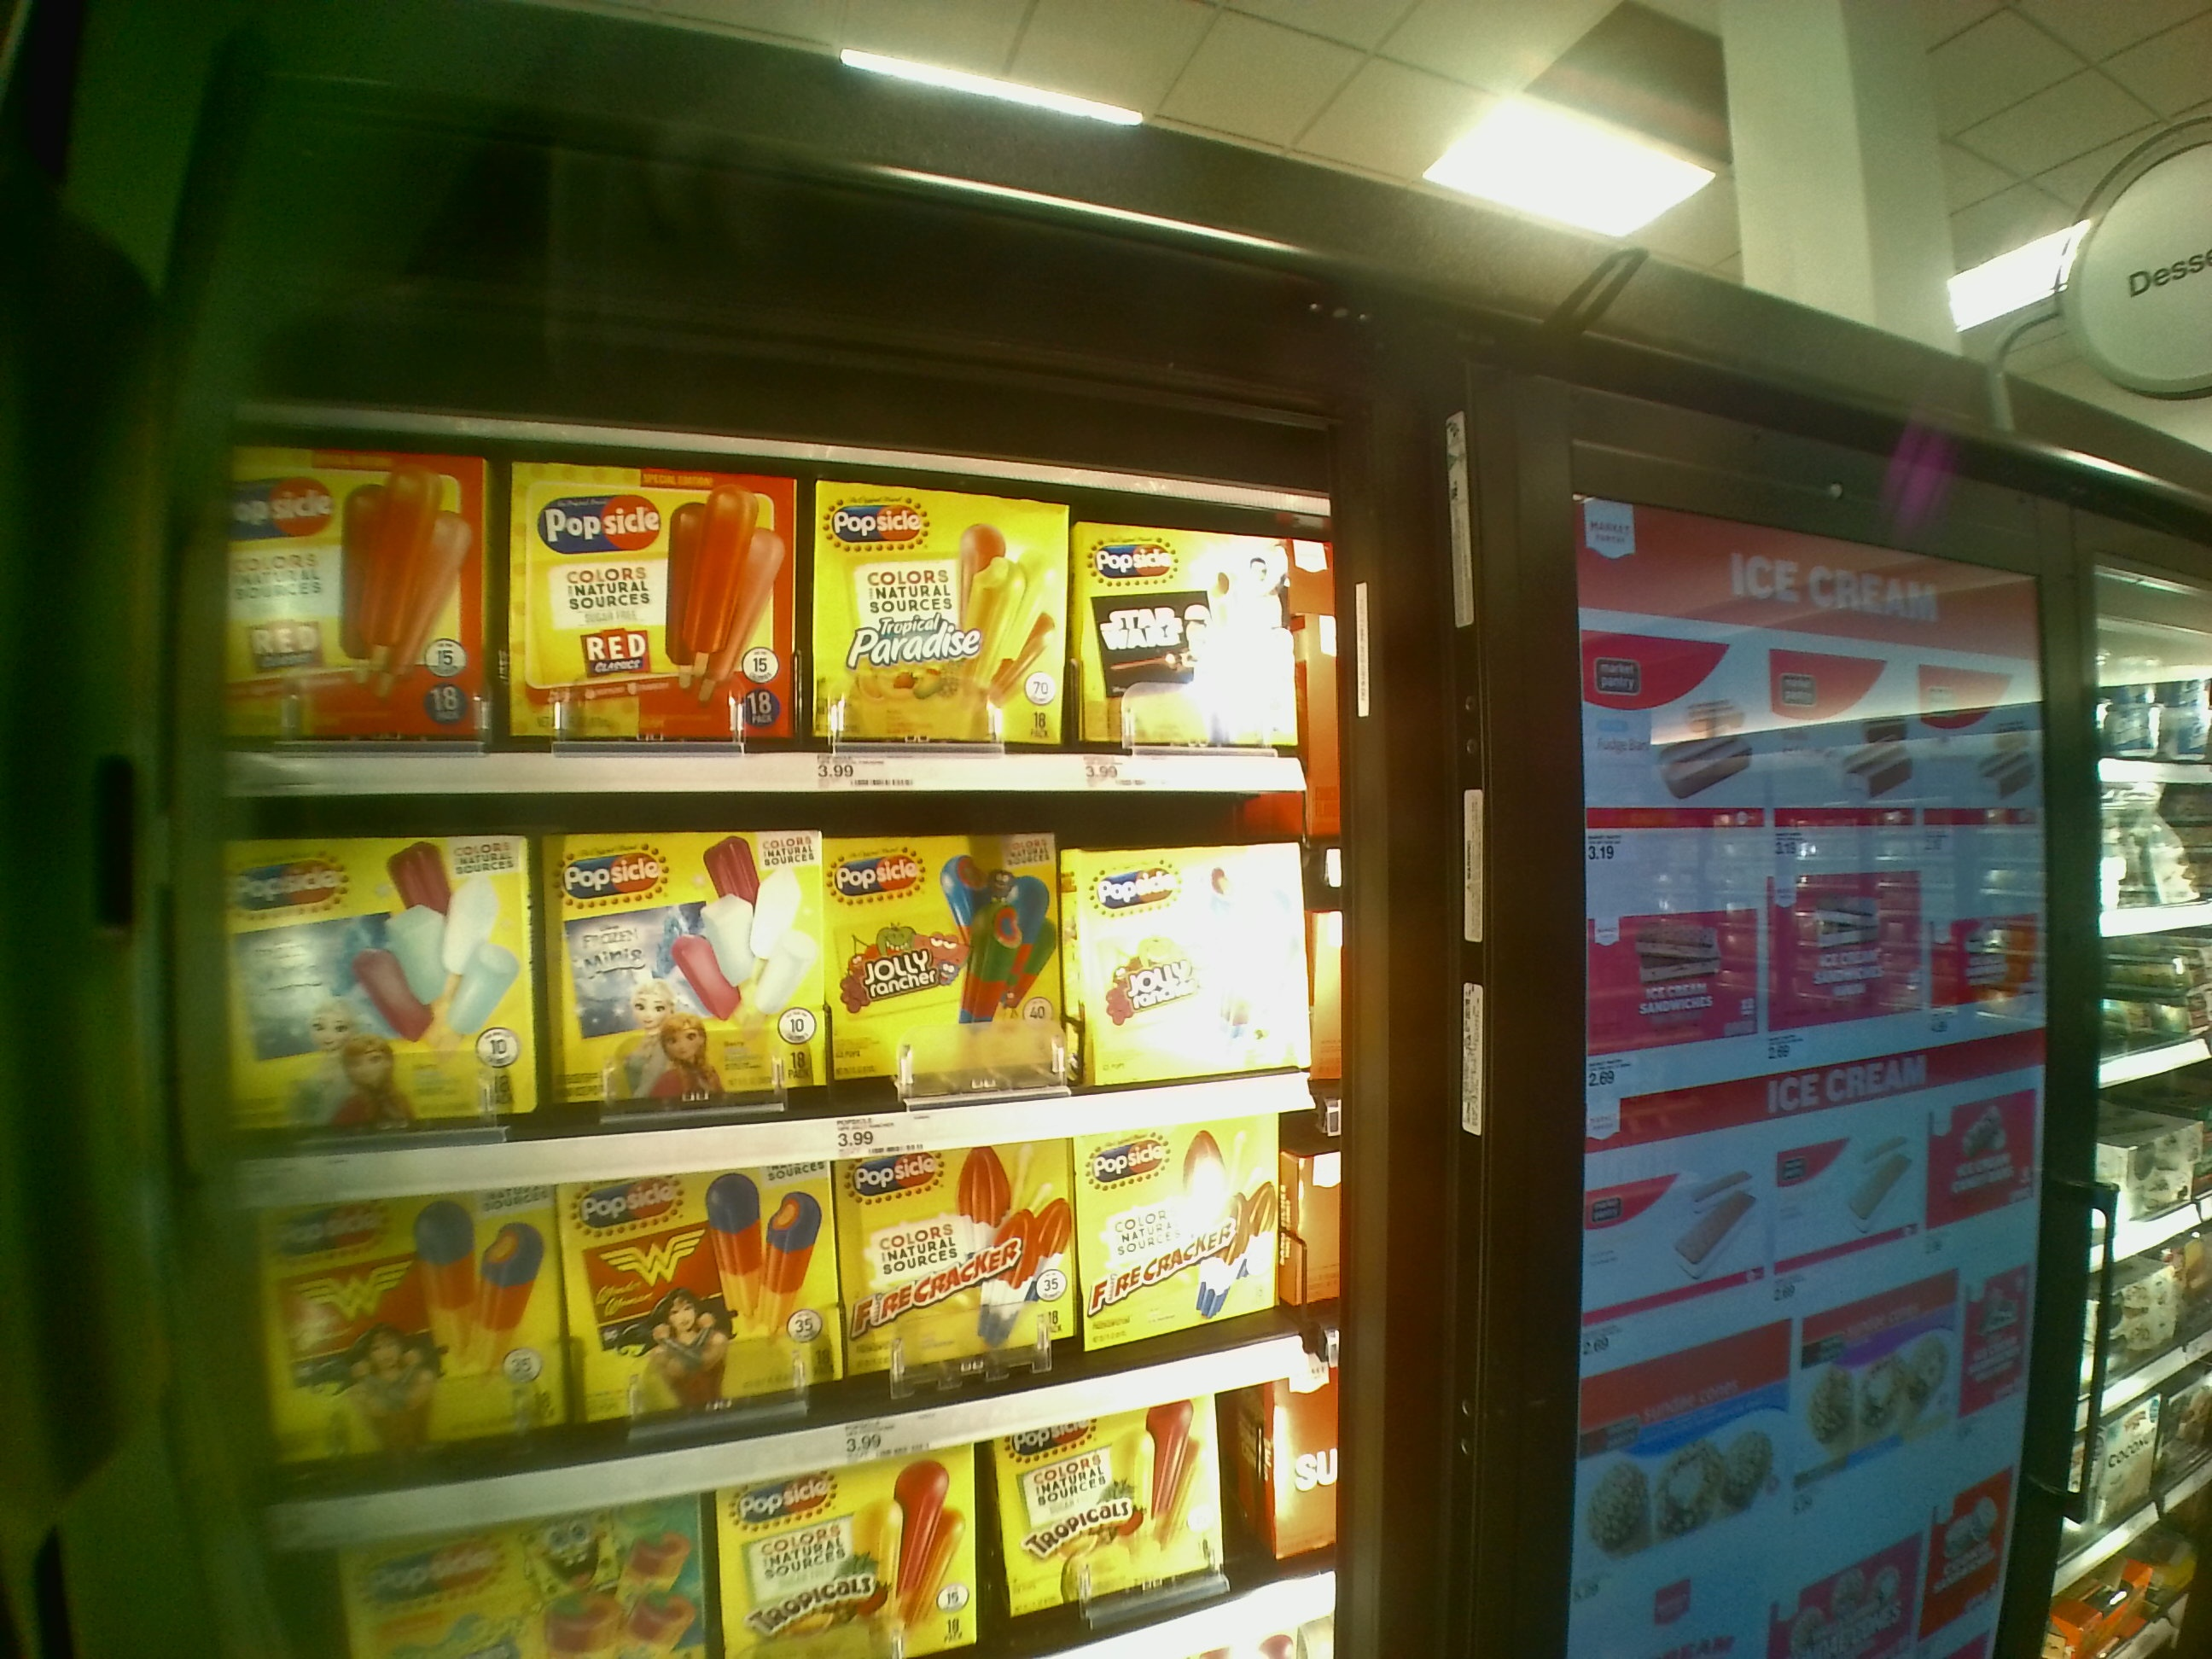shelf: (214, 809, 1338, 1180), (230, 427, 1320, 784), (251, 1143, 1327, 1483)
